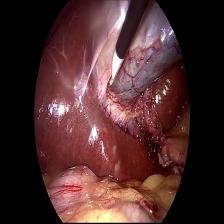Hook: (108, 41, 126, 94)
